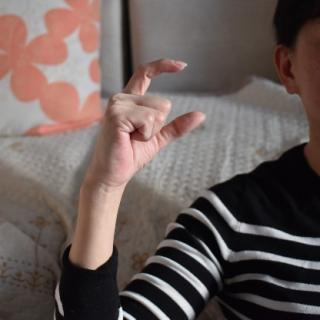DELL: (89, 56, 206, 190)
